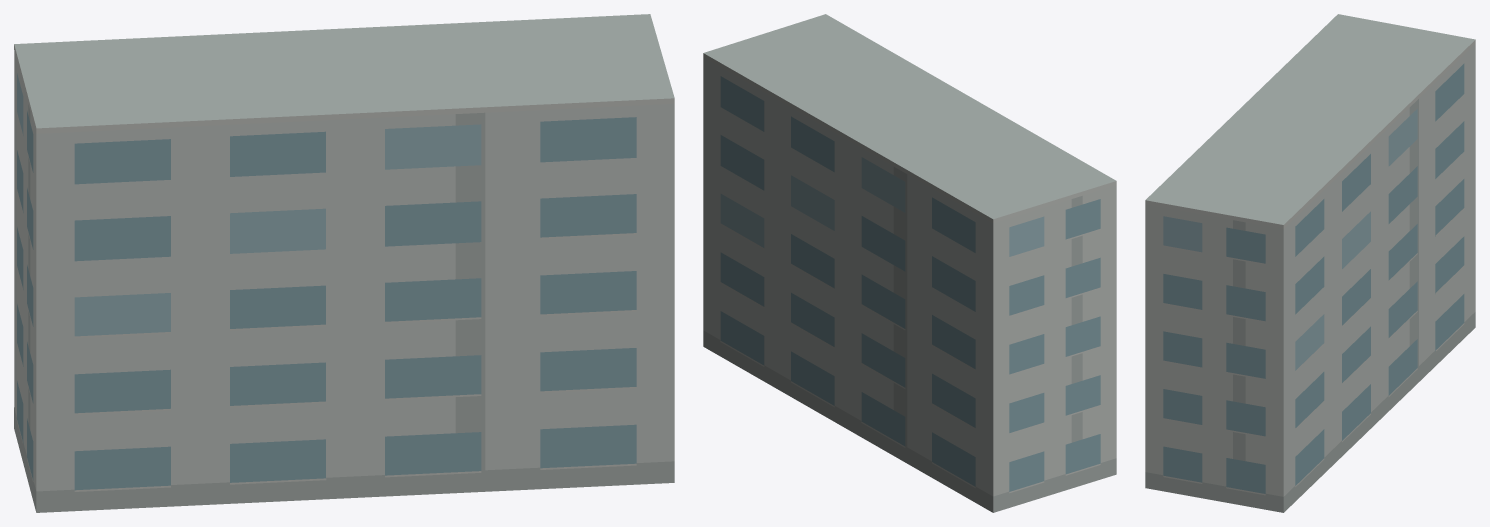
The model's file is survey-upis-32530669.glb.
3 renders of one model, left to right at view 1: azimuth 30°, elevation 25°; view 2: azimuth 150°, elevation 25°; view 3: azimuth 270°, elevation 25°, orthographic. The views are drawn at different scales.
Visible parts, largest first — view 1: survey-upis-32530669.tmp; view 2: survey-upis-32530669.tmp; view 3: survey-upis-32530669.tmp.
Part boxes in pixels (<box>): survey-upis-32530669.tmp: <box>14,14,674,512</box>; survey-upis-32530669.tmp: <box>703,14,1116,512</box>; survey-upis-32530669.tmp: <box>1145,14,1475,512</box>.
Bounding box in the file's own units: 26.66 × 16.95 × 17.64.
